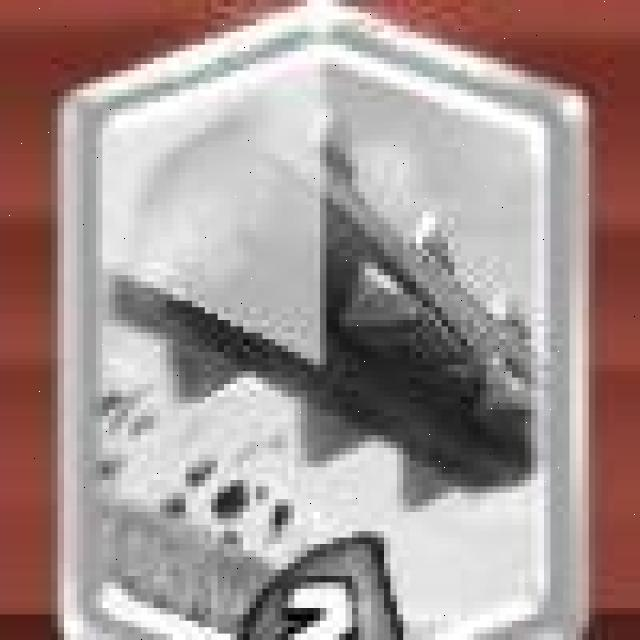Log: (59, 5, 585, 640)
